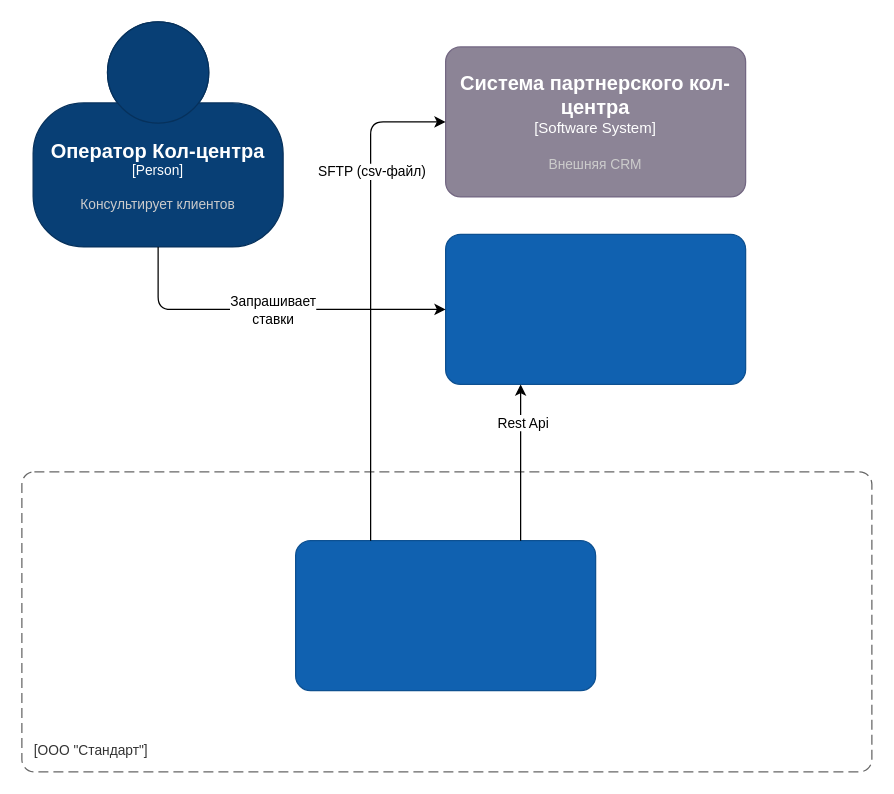
Image size: 894x794. Some labels were removed from this diagram. The centre of each missing label's shape, as x and y in pixels:
Сервис ставок [Software System] Расчет и распространение ставок: point (445, 615)
Система кол-центра банка [Software System] Внутренняя CRM: point (595, 308)
